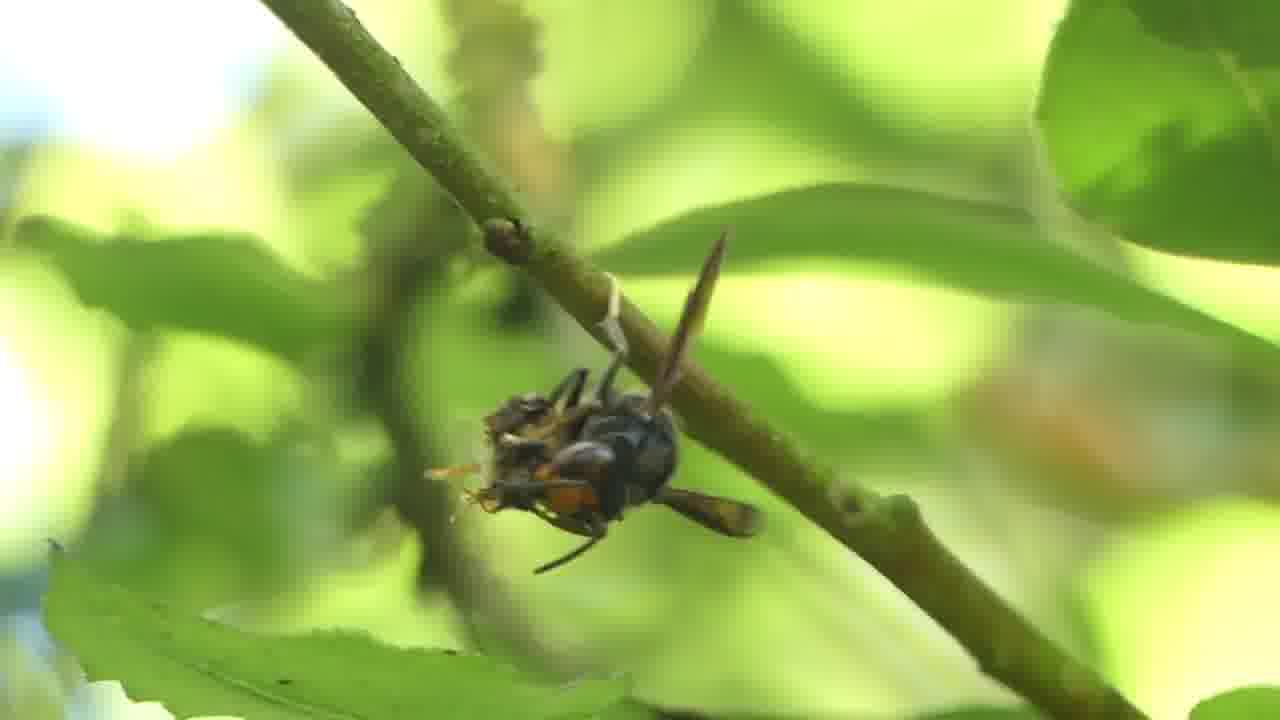hornet: (434, 276, 786, 557)
